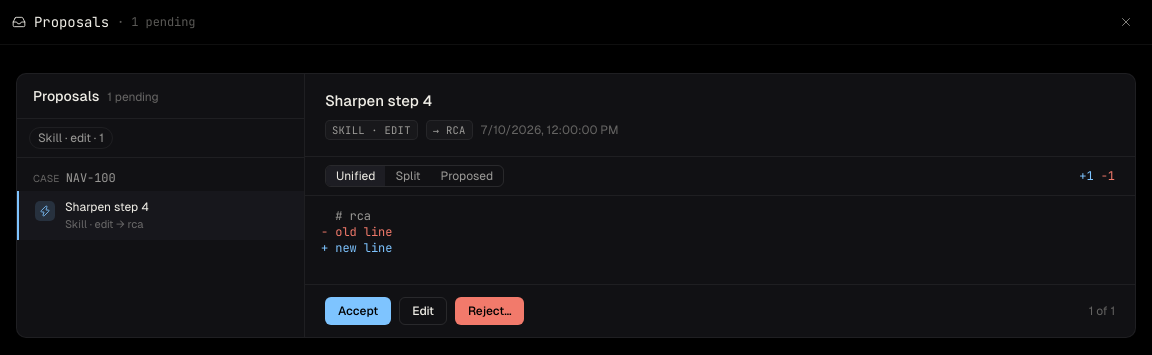
Test case: ProposalsStandalone freshness › a background refetch preserves the just-accepted banner
The width and height of the screenshot is (1152, 355).
Step 1. Click the button with aria-label "Accept Sharpen step 4" → (358, 311), box [325,297,391,325]
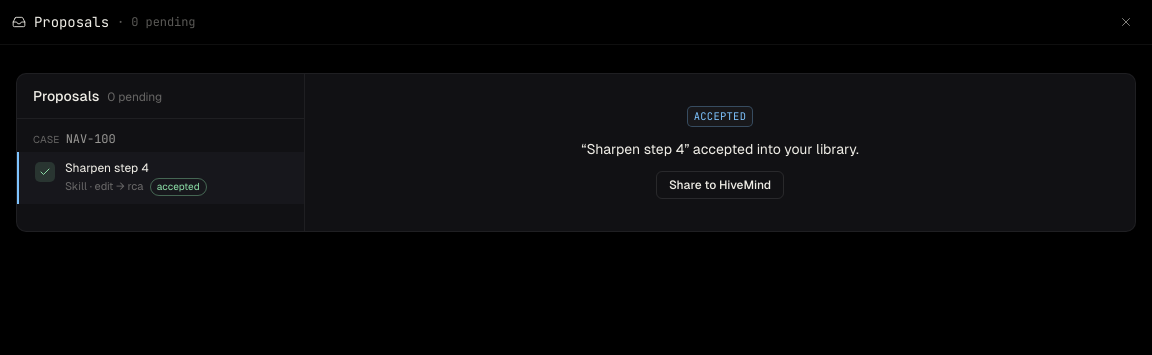
Expected: the text "0 pending" is shown, [107,89,162,105]
Expected: the text "“Sharpen step 4” accepted into your library." is shown, [581,139,859,159]
